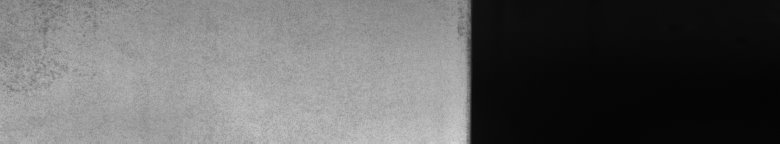ib: (4, 9, 90, 95)
